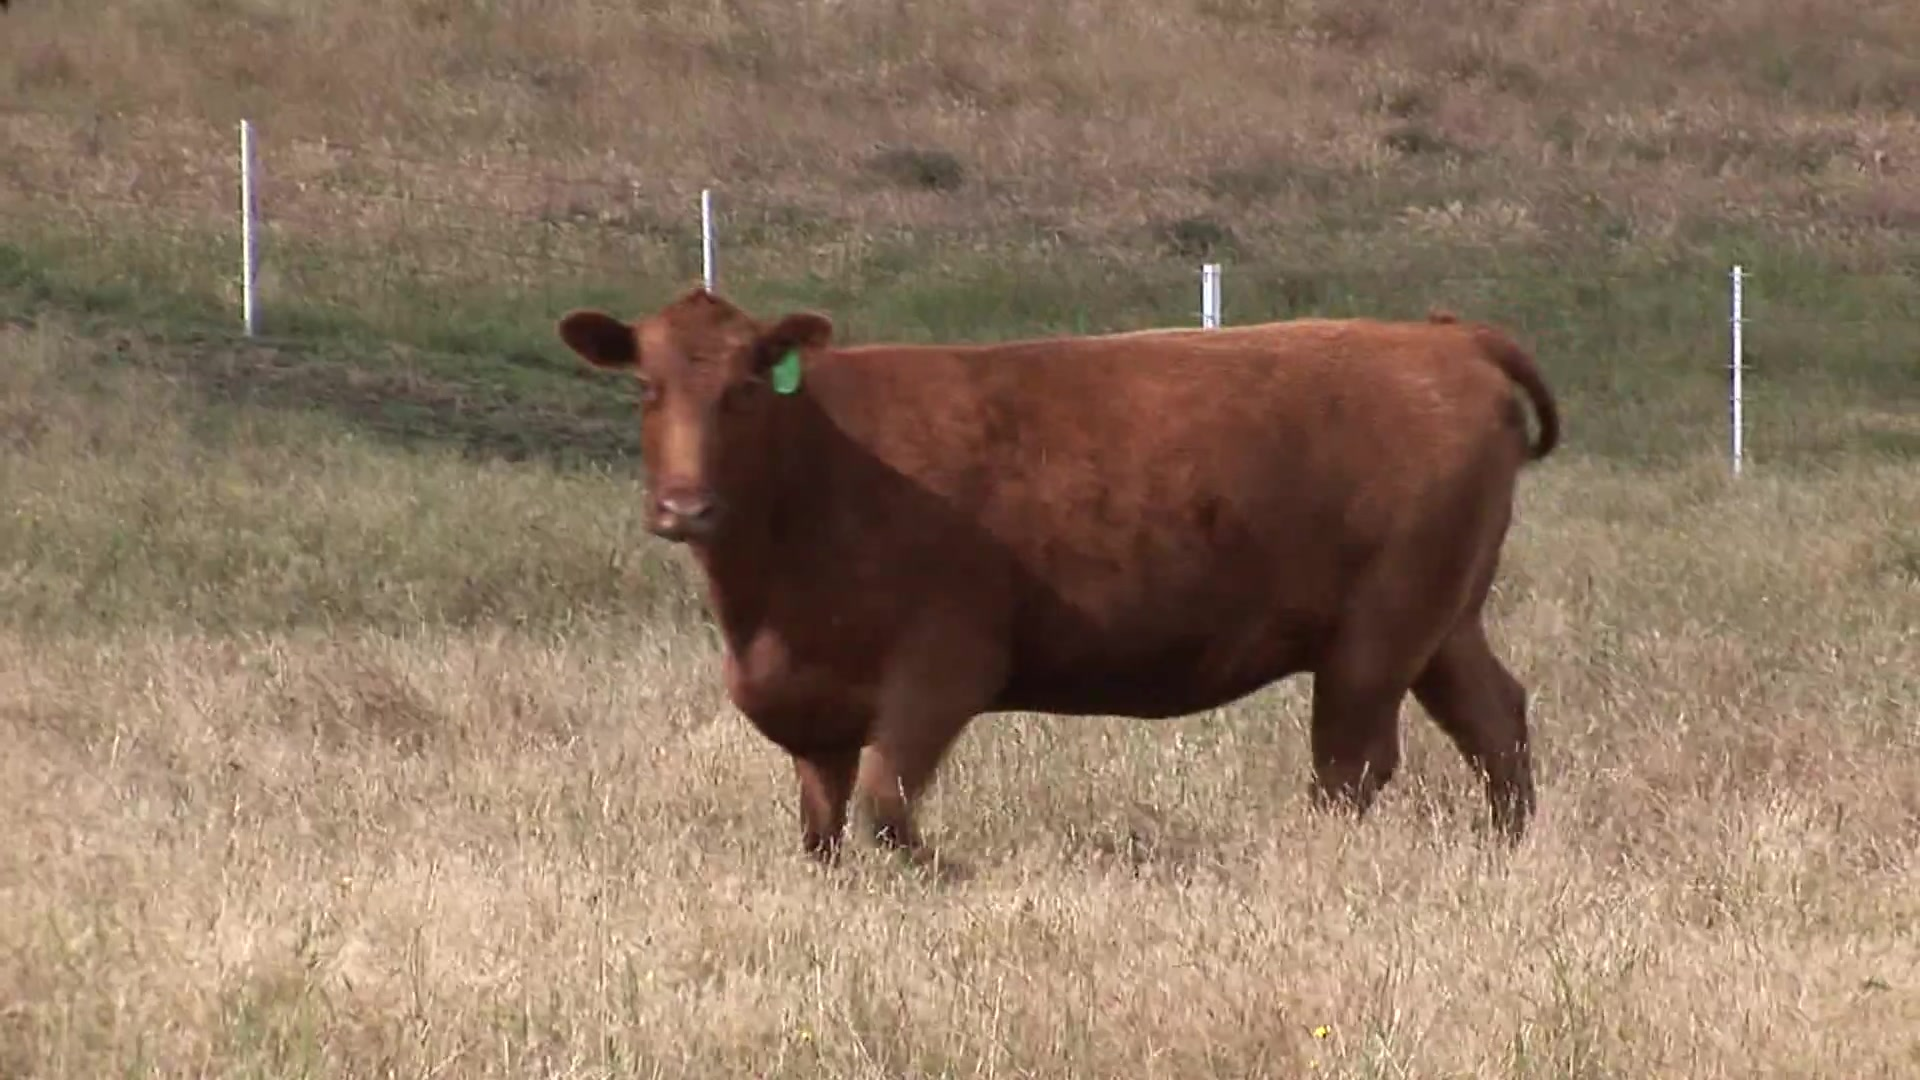cow: (550, 284, 1568, 864)
